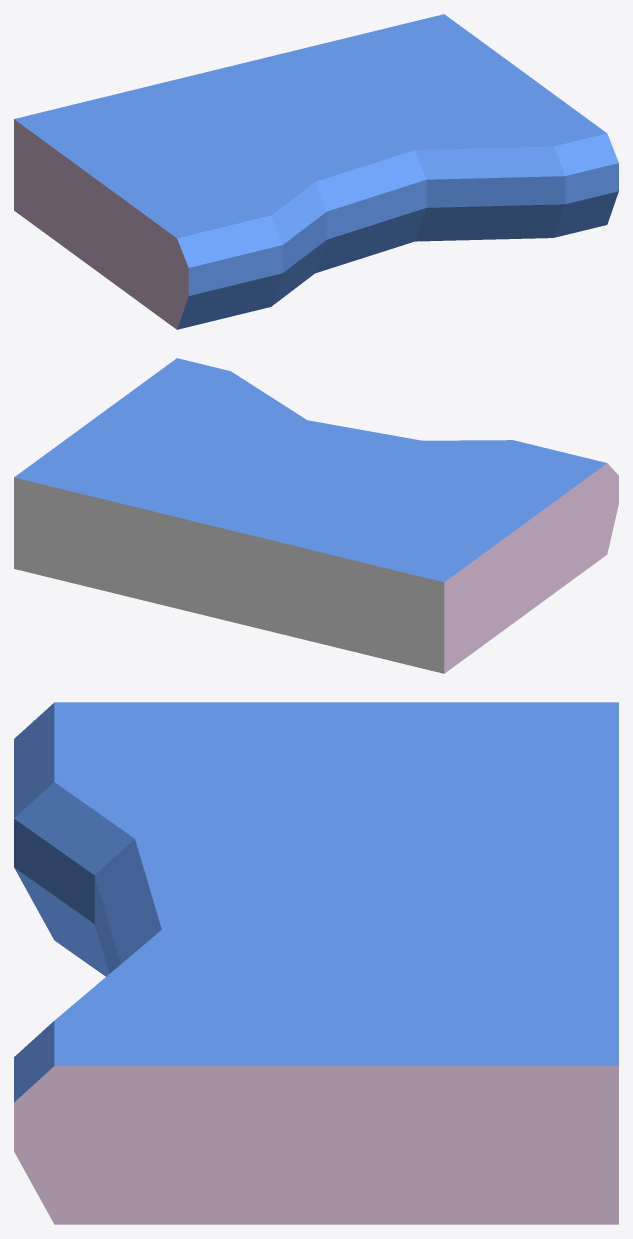
File: Iceberg_Straight_2x2_3.glb
The picture shows the model from 3 angles, top to bottom: view 1: azimuth 30°, elevation 25°; view 2: azimuth 150°, elevation 25°; view 3: azimuth 270°, elevation 25°; orthographic projection. The views are drawn at different scales.
Visible parts, largest first — view 1: Iceberg_Straight_2x2_3; view 2: Iceberg_Straight_2x2_3; view 3: Iceberg_Straight_2x2_3.
Boxes of the visible parts, <box> form: Iceberg_Straight_2x2_3: <box>14,14,618,329</box>; Iceberg_Straight_2x2_3: <box>14,358,618,673</box>; Iceberg_Straight_2x2_3: <box>14,702,618,1224</box>.
Size of the model in its own units: 200 by 40.63 by 141.
